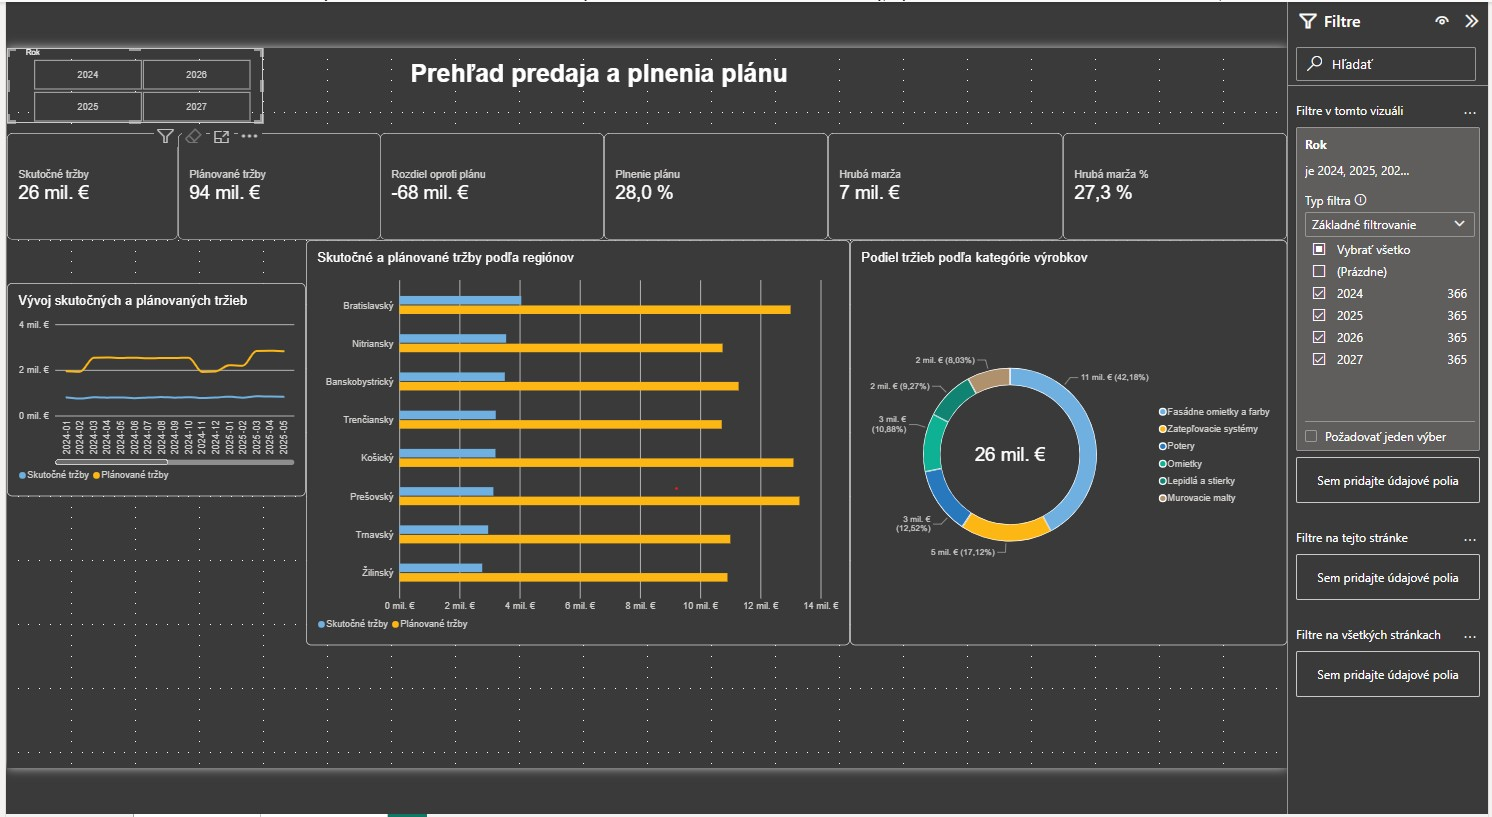

Layout of this report page (visuals, bound fields, positions):
{"tool":"powerbi","page":{"name":"Prehľad predaja","canvas":[1920,1080],"ordinal":0},"visuals":[{"type":"cardVisual","fields":{"Data":["_Measures.Actual Revenue"]},"box":[0,128,256,160],"z":0},{"type":"cardVisual","fields":{"Data":["_Measures.Budget Revenue"]},"box":[256,128,304,160],"z":1000},{"type":"slicer","fields":{"Values":["DimDate.Year"]},"box":[0,0,384,112],"z":2000},{"type":"cardVisual","fields":{"Data":["_Measures.Budget Achievement %"]},"box":[896,128,336,160],"z":3000},{"type":"cardVisual","fields":{"Data":["_Measures.Budget Variance"]},"box":[560,128,336,160],"z":4000},{"type":"lineChart","title":"Vývoj skutočných a plánovaných tržieb","fields":{"Category":["DimDate.YearMonth"],"Y":["_Measures.Skutočné tržby","_Measures.Plánované tržby"]},"box":[0,352,448,320],"z":5000},{"type":"clusteredBarChart","title":"Skutočné a plánované tržby podľa regiónov","fields":{"Category":["DimRegion.RegionName"],"Y":["_Measures.Skutočné tržby","_Measures.Plánované tržby"]},"box":[448,288,816,608],"z":6000},{"type":"donutChart","title":"Podiel tržieb podľa kategórie výrobkov","fields":{"Category":["DimProductCategory.CategoryName"],"Y":["_Measures.Skutočné tržby"]},"box":[1264,288,656,608],"z":7000},{"type":"cardVisual","fields":{"Data":["_Measures.Hrubá marža"]},"box":[1232,128,352,160],"z":8000},{"type":"cardVisual","fields":{"Data":["_Measures.Hrubá marža %"]},"box":[1584,128,336,160],"z":9000},{"type":"textbox","box":[0,810,480,270],"z":10000},{"type":"textbox","box":[528,16,720,64],"z":10001}]}

Visuals, with their boxes on the page's 1920x1080 design canvas (x1, y1, x2, y2). These are canvas units, not pixel positions in the 1492x817 screenshot, which may show the page scaled, cropped or inside an application window:
cardVisual - _Measures.Actual Revenue: [x1=0, y1=128, x2=256, y2=288]
cardVisual - _Measures.Budget Revenue: [x1=256, y1=128, x2=560, y2=288]
slicer - DimDate.Year: [x1=0, y1=0, x2=384, y2=112]
cardVisual - _Measures.Budget Achievement %: [x1=896, y1=128, x2=1232, y2=288]
cardVisual - _Measures.Budget Variance: [x1=560, y1=128, x2=896, y2=288]
"Vývoj skutočných a plánovaných tržieb" lineChart: [x1=0, y1=352, x2=448, y2=672]
"Skutočné a plánované tržby podľa regiónov" clusteredBarChart: [x1=448, y1=288, x2=1264, y2=896]
"Podiel tržieb podľa kategórie výrobkov" donutChart: [x1=1264, y1=288, x2=1920, y2=896]
cardVisual - _Measures.Hrubá marža: [x1=1232, y1=128, x2=1584, y2=288]
cardVisual - _Measures.Hrubá marža %: [x1=1584, y1=128, x2=1920, y2=288]
textbox: [x1=0, y1=810, x2=480, y2=1080]
textbox: [x1=528, y1=16, x2=1248, y2=80]
